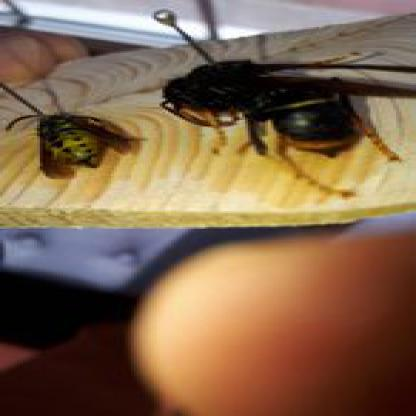Asian Hornet: (157, 50, 415, 200)
Bee: (0, 85, 146, 183)
